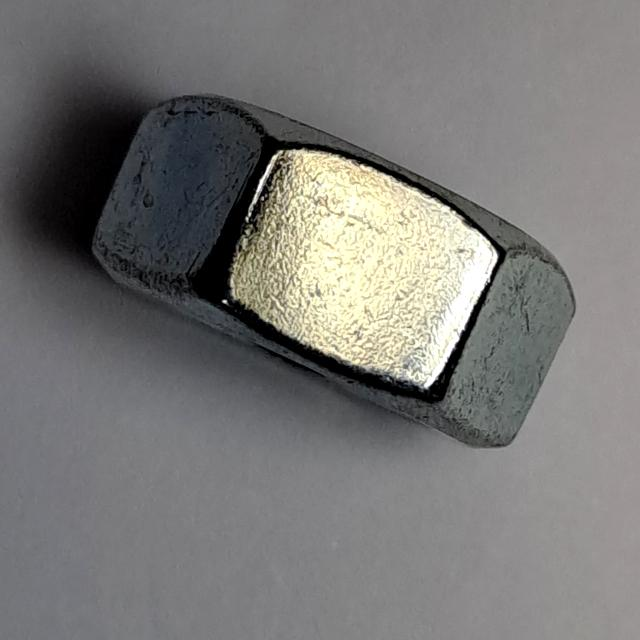Side_Excellent: (79, 85, 589, 466)
